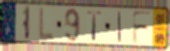1: (22, 4, 31, 42)
9: (64, 8, 81, 43)
F: (131, 10, 154, 45)
I: (117, 10, 122, 43)
L: (37, 6, 55, 42)
T: (87, 10, 103, 43)
